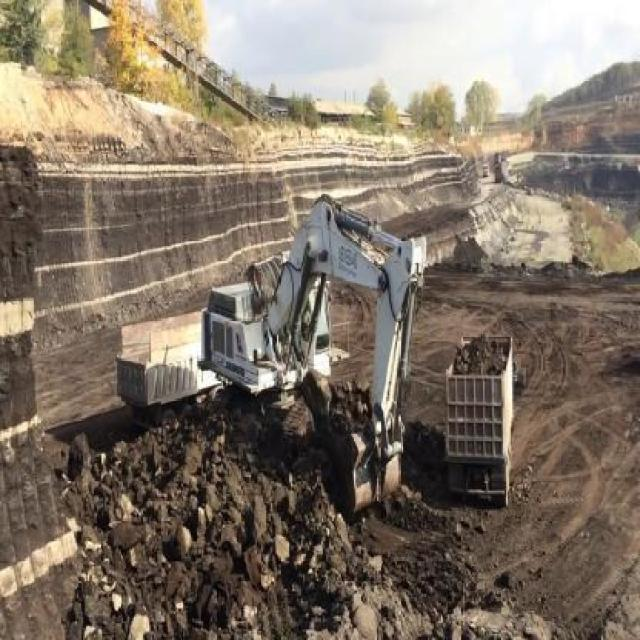dump_truck: (440, 333, 514, 507), (117, 301, 203, 417)
excavator: (200, 187, 431, 519)
